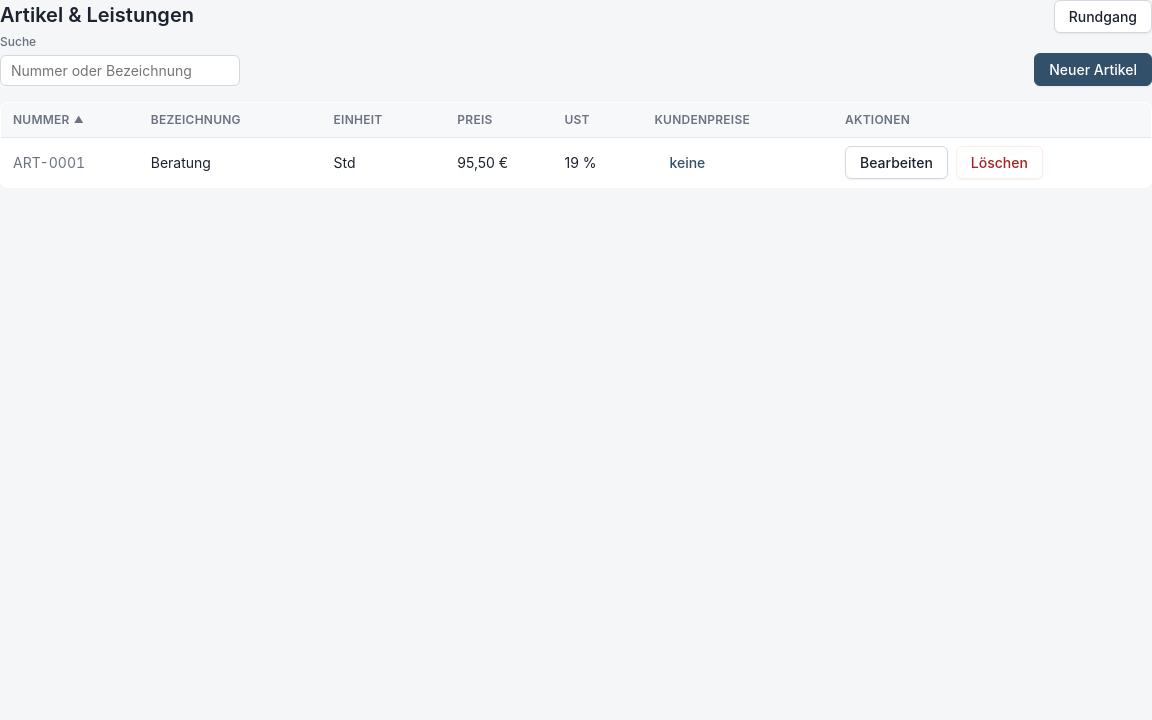
Test: Artikel › löscht einen Artikel nicht, wenn im Dialog abgebrochen wird
Expected: the text "Beratung" is shown, x1=139 y1=138 x2=322 y2=188
Step 1. Click the button "Löschen" → (999, 162), box x1=956 y1=146 x2=1043 y2=179
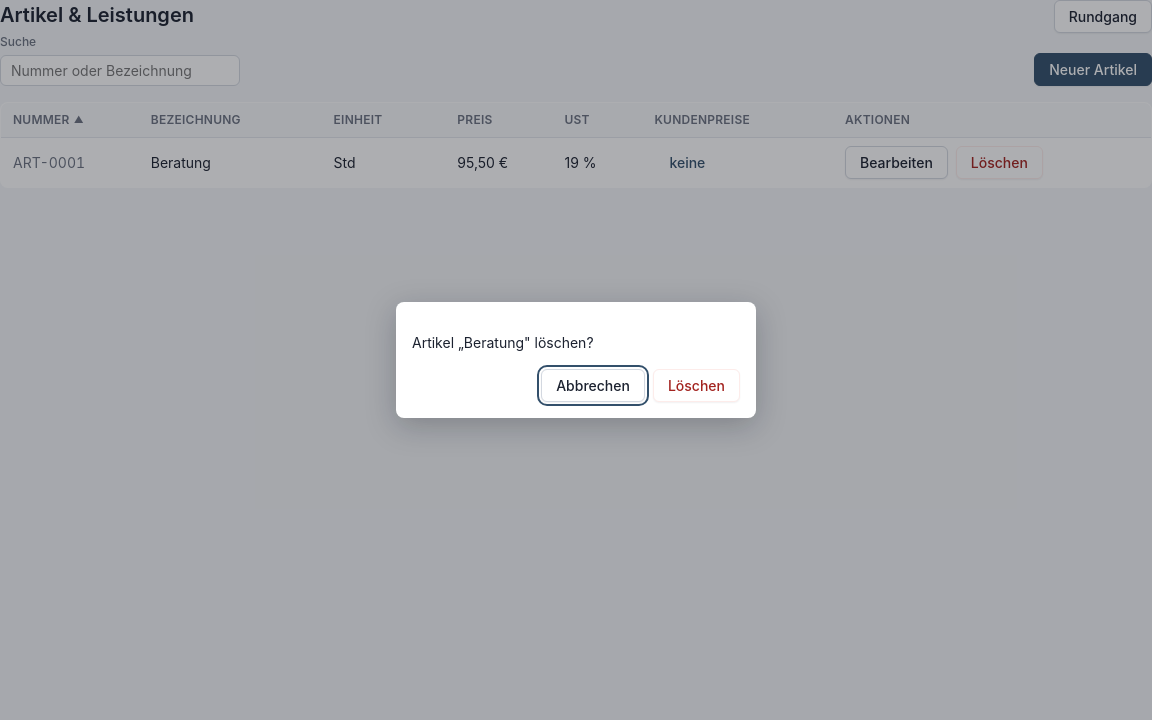
Expected: the dialog is shown, x1=396 y1=302 x2=756 y2=418
Step 2. Click the button "Abbrechen" → (593, 386), box x1=541 y1=369 x2=645 y2=402
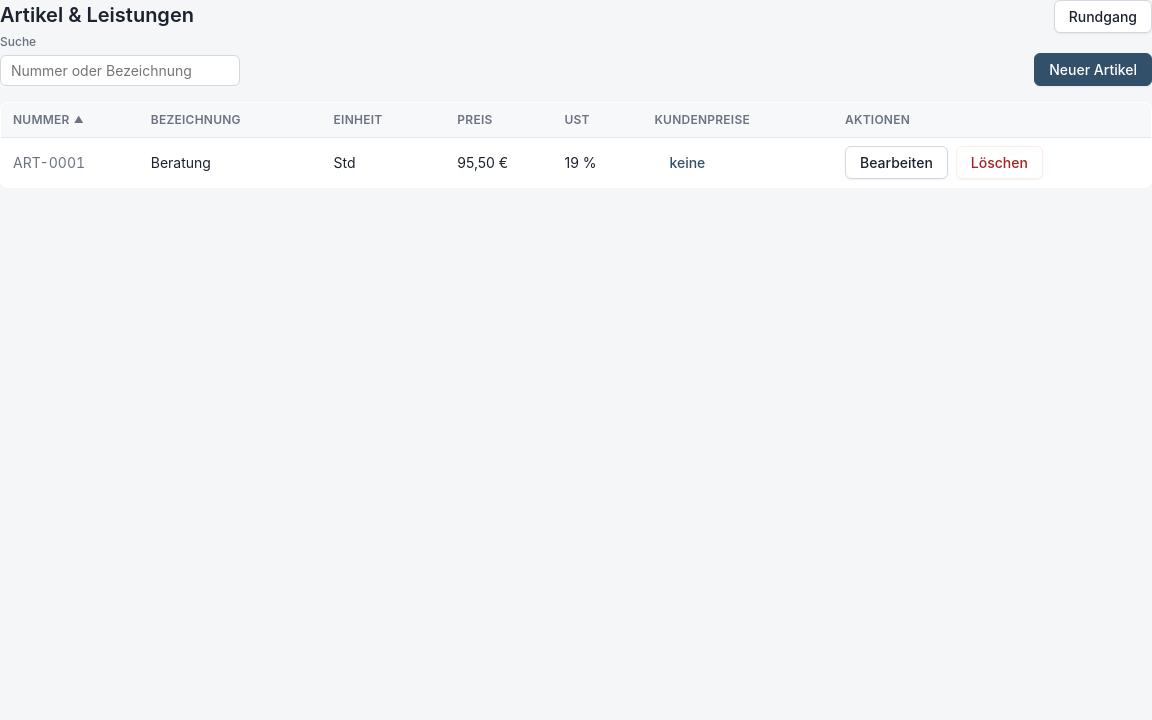
Expected: the dialog is gone
